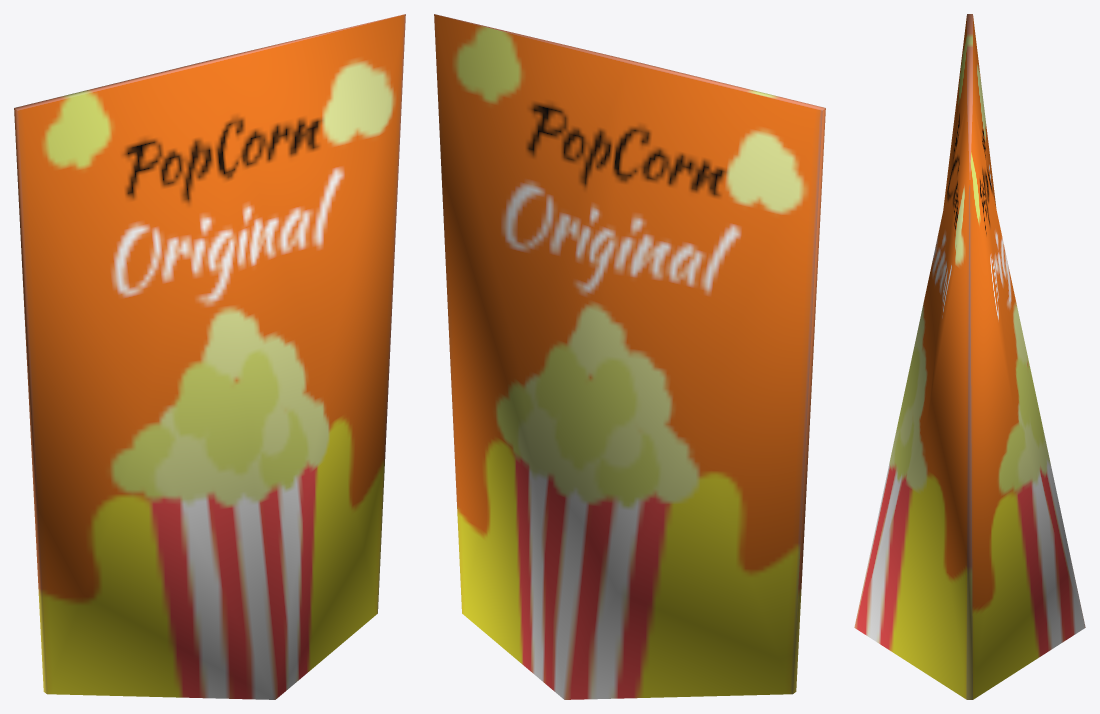
File: Shelves_Assets_Snacks_PopCornOriginal_1.fbx
3 views of the same model, side by side, from view 1: azimuth 30°, elevation 25°; view 2: azimuth 150°, elevation 25°; view 3: azimuth 270°, elevation 25° (orthographic). The views are drawn at different scales.
Visible parts, largest first — view 1: Shelves_Assets_Snacks_PopCornOriginal_1.001; view 2: Shelves_Assets_Snacks_PopCornOriginal_1.001; view 3: Shelves_Assets_Snacks_PopCornOriginal_1.001.
Part boxes in pixels (left/top/right/bottom): Shelves_Assets_Snacks_PopCornOriginal_1.001: left=14, top=14, right=405, bottom=699; Shelves_Assets_Snacks_PopCornOriginal_1.001: left=434, top=14, right=825, bottom=699; Shelves_Assets_Snacks_PopCornOriginal_1.001: left=854, top=14, right=1085, bottom=699.
Bounding box in the file's own units: 28.65 × 41.47 × 16.45.
